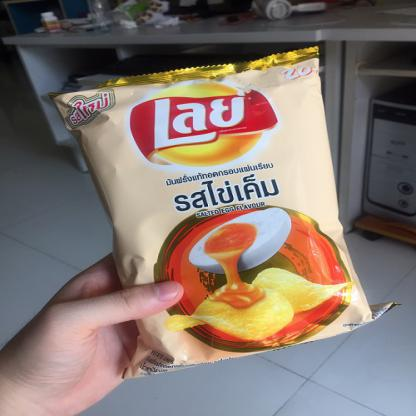potatochip: (41, 40, 403, 385)
